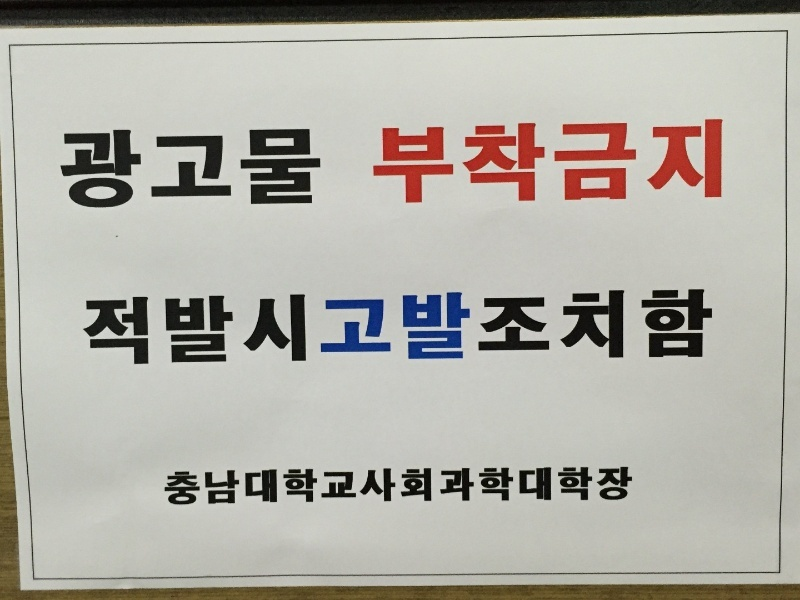text: (369, 114, 384, 208), (385, 114, 400, 208), (401, 114, 416, 208), (417, 114, 432, 208), (433, 114, 448, 208), (449, 114, 464, 208), (465, 114, 480, 208), (481, 114, 496, 208), (497, 114, 512, 208), (513, 114, 528, 208), (529, 114, 544, 208), (545, 114, 560, 208), (561, 114, 576, 208), (577, 114, 592, 208), (593, 114, 608, 208), (609, 114, 624, 208), (625, 114, 640, 208), (641, 114, 656, 208), (657, 114, 672, 208), (673, 114, 688, 208), (689, 114, 704, 208), (705, 114, 720, 208), (65, 124, 80, 214), (81, 124, 96, 214), (97, 124, 112, 214), (113, 124, 128, 214), (129, 124, 144, 214), (145, 124, 160, 214), (161, 124, 176, 214), (177, 124, 192, 214), (193, 124, 208, 214), (209, 124, 224, 214), (225, 124, 240, 214), (241, 124, 256, 214), (257, 124, 272, 214), (273, 124, 288, 214), (289, 124, 304, 214), (305, 124, 320, 214), (97, 286, 112, 367), (113, 286, 128, 367), (129, 286, 144, 367), (145, 286, 160, 367), (161, 286, 176, 367), (177, 286, 192, 367), (193, 286, 208, 367), (209, 286, 224, 367), (225, 286, 240, 367), (241, 286, 256, 367), (257, 286, 272, 367), (273, 286, 288, 367), (289, 286, 304, 367), (305, 286, 320, 367), (321, 286, 336, 367), (337, 286, 352, 367), (353, 286, 368, 367), (369, 286, 384, 367), (385, 286, 400, 367), (401, 286, 416, 367), (417, 286, 432, 367), (433, 286, 448, 367), (449, 286, 464, 367), (465, 286, 480, 367), (481, 286, 496, 367), (497, 286, 512, 367), (513, 286, 528, 367), (529, 286, 544, 367), (545, 286, 560, 367), (561, 286, 576, 367), (577, 286, 592, 367), (593, 286, 608, 367), (609, 286, 624, 367), (625, 286, 640, 367), (641, 286, 656, 367), (657, 286, 672, 367), (673, 286, 688, 367), (689, 286, 704, 367), (82, 286, 96, 367), (705, 286, 718, 367), (56, 124, 64, 214), (177, 464, 192, 509), (193, 464, 208, 509), (209, 464, 224, 509), (225, 464, 240, 509), (241, 464, 256, 509), (257, 464, 272, 509), (273, 464, 288, 509), (289, 464, 304, 509), (305, 464, 320, 509), (321, 464, 336, 509), (337, 464, 352, 509), (353, 464, 368, 509), (369, 464, 384, 509), (385, 464, 400, 509), (401, 464, 416, 509), (417, 464, 432, 509), (433, 464, 448, 509), (449, 464, 464, 509), (465, 464, 480, 509), (481, 464, 496, 509), (497, 464, 512, 509), (513, 464, 528, 509), (529, 464, 544, 509), (545, 464, 560, 509), (561, 464, 576, 509), (577, 464, 592, 509), (593, 464, 608, 509), (609, 464, 624, 509), (721, 114, 728, 208), (163, 464, 176, 509), (625, 464, 638, 509), (321, 124, 323, 214), (367, 114, 368, 208)
